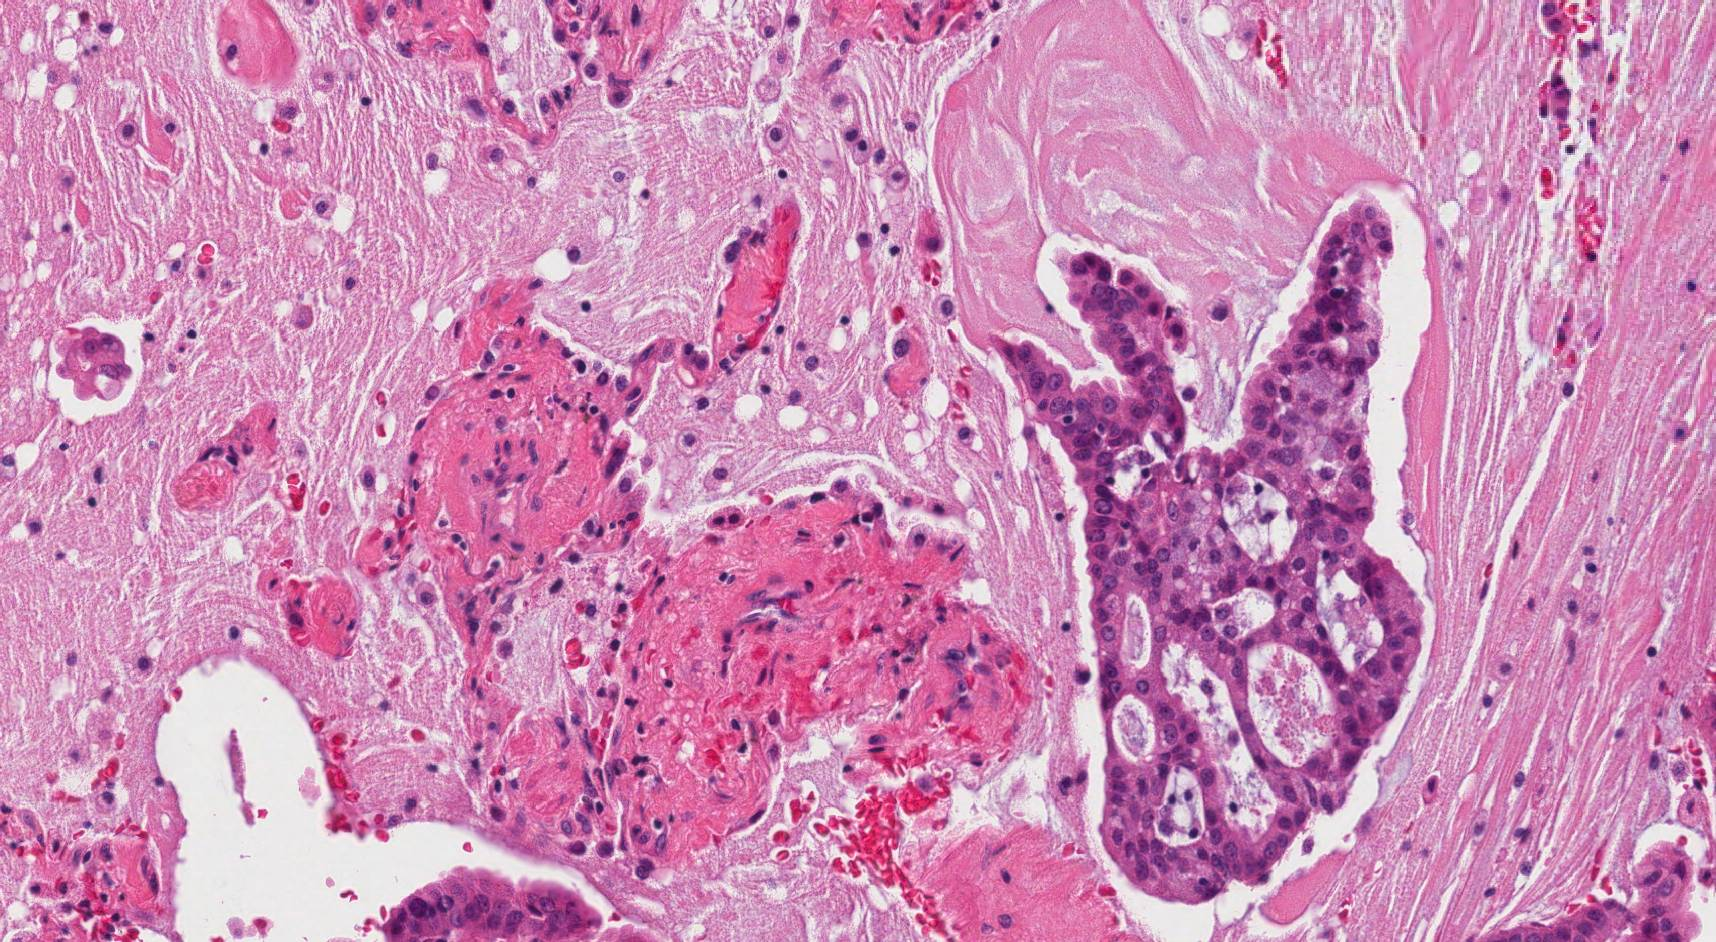stas: (988, 194, 1424, 907), (49, 324, 133, 402)
